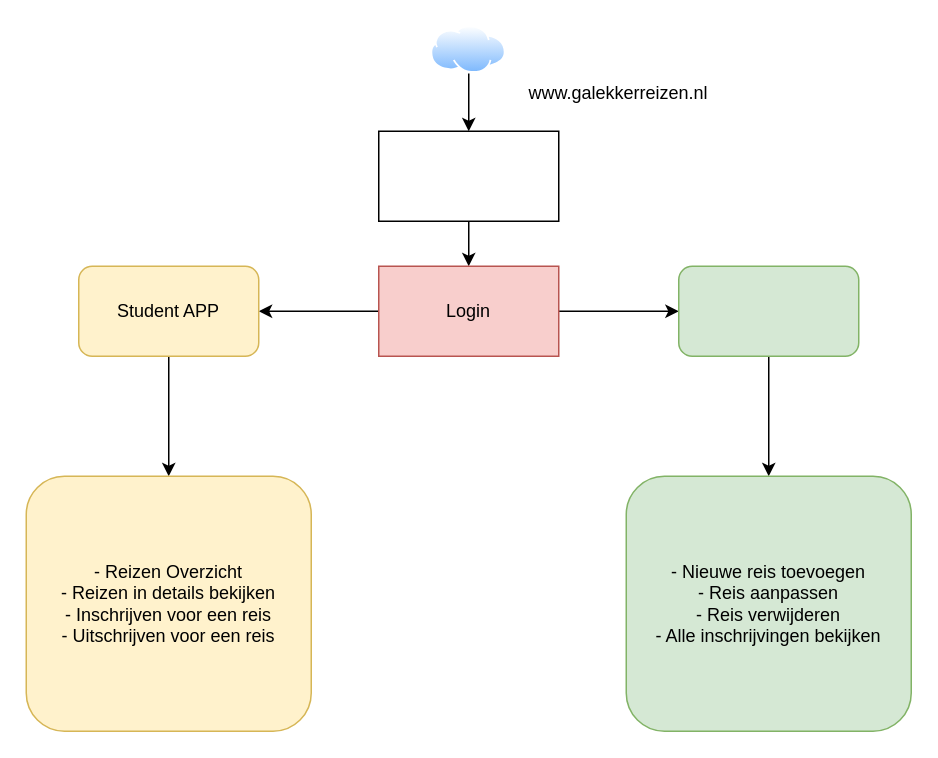
The diagram is 938 pixels wide and 758 high, and some of its shapes have lost their labels. Each missing label, with the centre of its shape:
"Admin APP" goes at point 768,310.
"Landingpage" goes at point 468,175.
